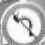Don't turn left: (2, 2, 41, 41)
